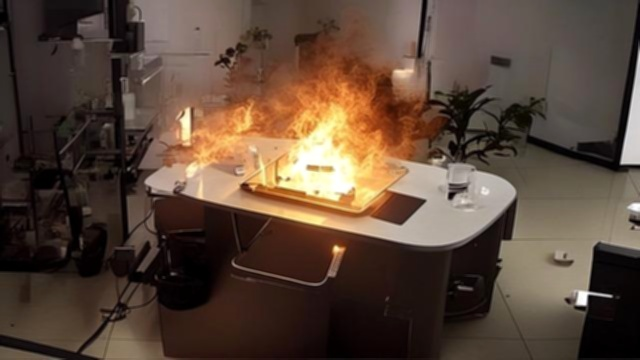fire: (149, 50, 422, 218)
